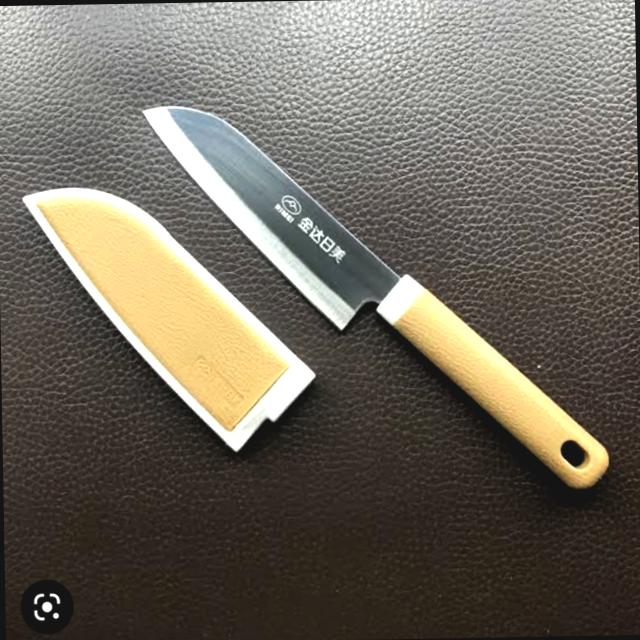knife: (11, 54, 625, 522)
